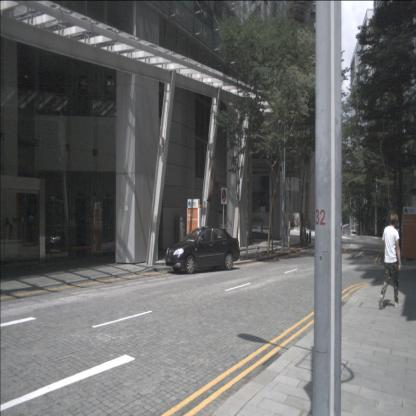human-pedestrian-adult: (378, 213, 402, 310)
vehicle-car: (165, 226, 240, 274), (41, 216, 94, 253), (350, 230, 358, 237)
